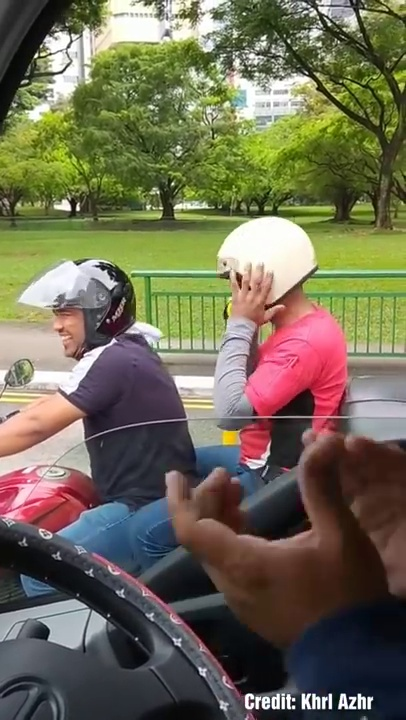helmet: (217, 197, 320, 314), (25, 253, 141, 356)
